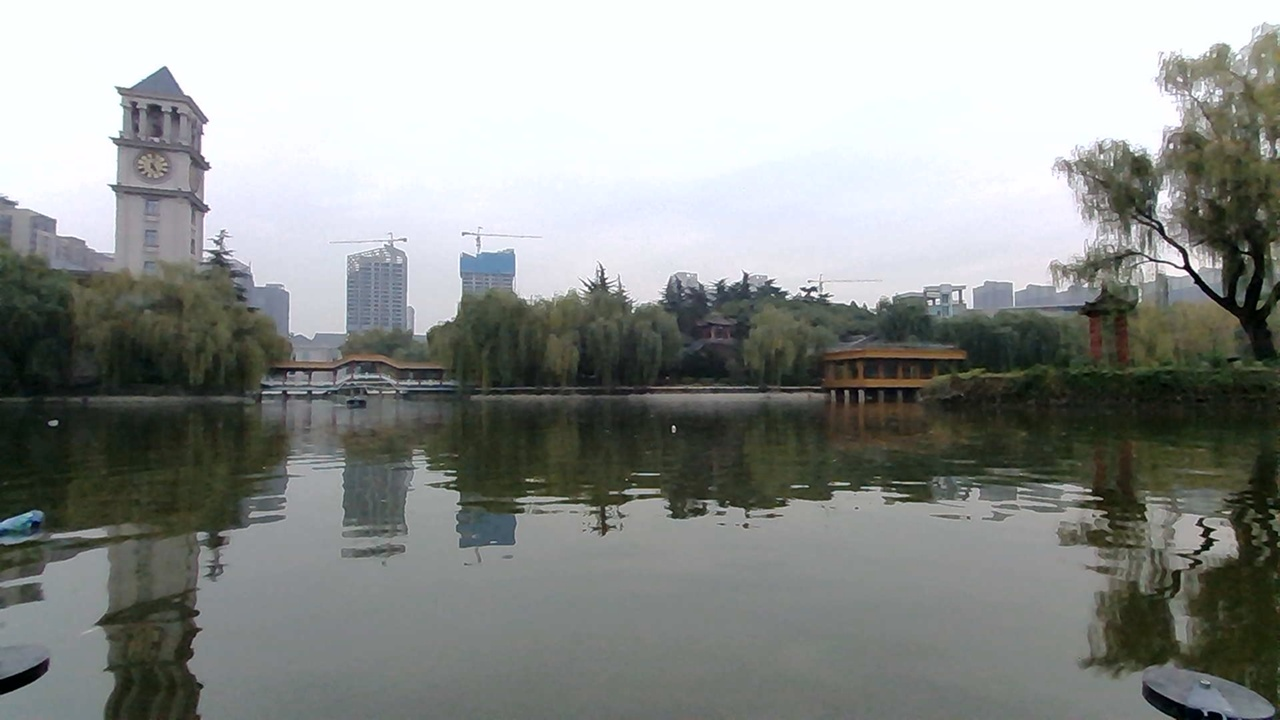bottle: (656, 412, 698, 441), (42, 407, 81, 432)
